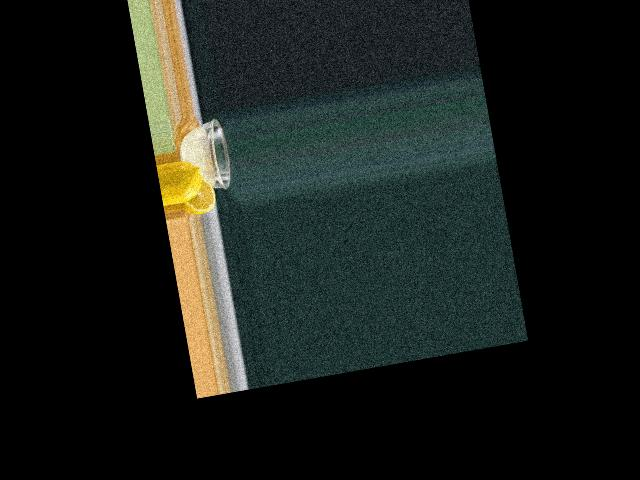lemon: (174, 156, 218, 214)
